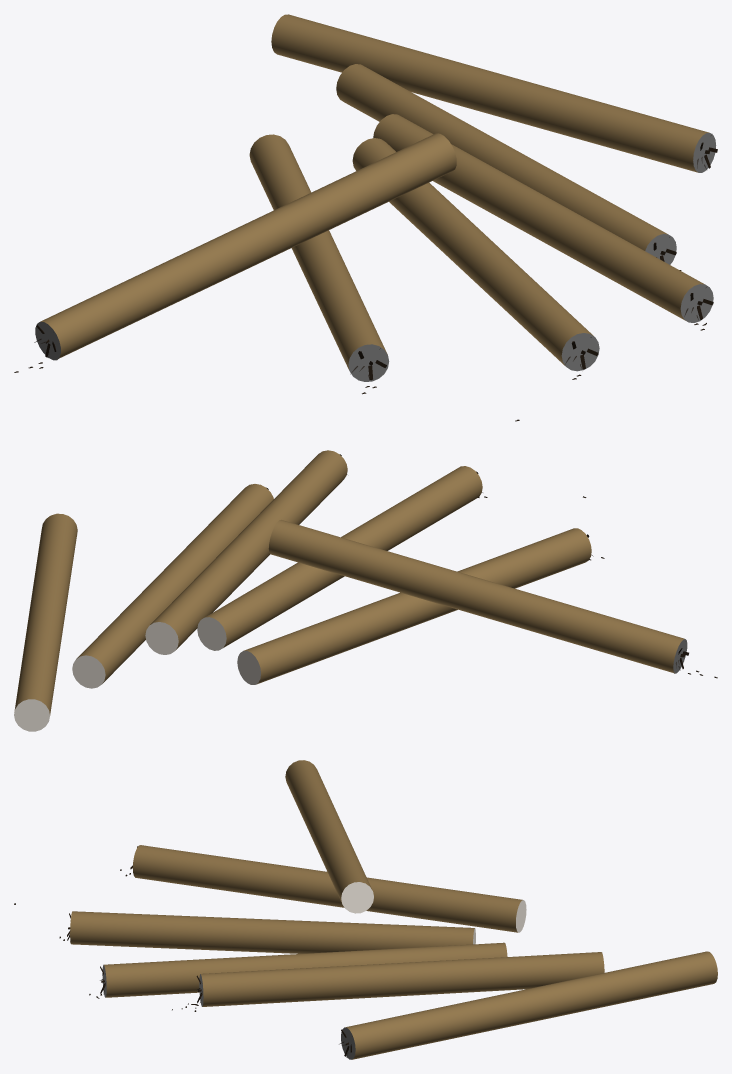
The model's file is Filter Tip Cigarettes.fbx.
3 views of the same model, one above another, from view 1: azimuth 30°, elevation 25°; view 2: azimuth 150°, elevation 25°; view 3: azimuth 270°, elevation 25° (orthographic). The views are drawn at different scales.
Parts seen in each view (by area): view 1: Cylinder05, Cylinder08, Cylinder09, Cylinder06, Cylinder07, Cylinder03; view 2: Cylinder05, Cylinder03, Cylinder06, Cylinder09, Cylinder07, Cylinder08; view 3: Cylinder07, Cylinder08, Cylinder06, Cylinder03, Cylinder09, Cylinder05.
Part boxes in pixels (x1,y1,x2,y2): Cylinder05: (35,133,456,359); Cylinder08: (271,14,716,172); Cylinder09: (373,114,713,322); Cylinder06: (352,138,599,371); Cylinder07: (336,64,676,264); Cylinder03: (249,134,389,381); Cylinder05: (268,520,687,673); Cylinder03: (237,528,591,684); Cylinder06: (197,466,482,650); Cylinder09: (145,450,347,654); Cylinder07: (72,484,273,688); Cylinder08: (14,513,77,731); Cylinder07: (199,952,604,1006); Cylinder08: (341,951,717,1059); Cylinder06: (70,911,475,953); Cylinder03: (132,845,526,932); Cylinder09: (102,942,507,997); Cylinder05: (285,760,373,913).
Bounding box in the file's own units: 82.01 × 10.1 × 84.58.
